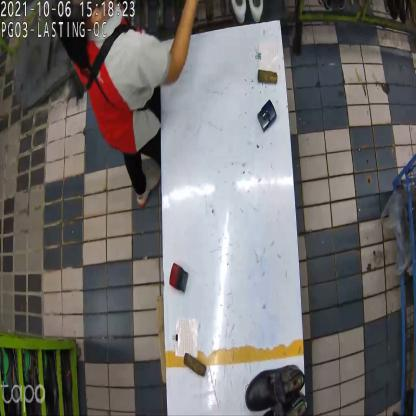shoes: (243, 362, 312, 416)
stamp: (170, 262, 191, 294), (258, 99, 276, 134)
